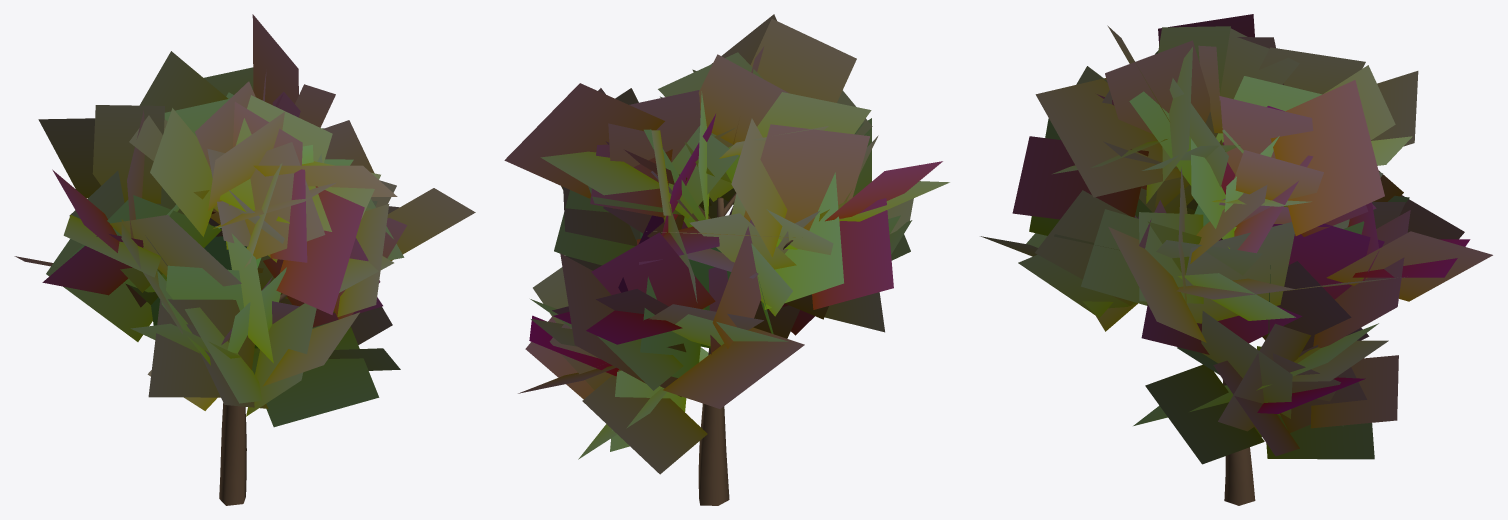
Rendered from tree_apple_far.glb.
The picture shows the model from 3 angles, left to right: view 1: azimuth 30°, elevation 25°; view 2: azimuth 150°, elevation 25°; view 3: azimuth 270°, elevation 25°; orthographic projection. The views are drawn at different scales.
Parts seen in each view (by area): view 1: Leaves, Trunk; view 2: Leaves, Trunk; view 3: Leaves, Trunk.
Part boxes in pixels (box(x1,y1,x2,y2)): Leaves: box(14, 14, 475, 427); Trunk: box(219, 293, 287, 505); Leaves: box(504, 14, 949, 474); Trunk: box(698, 193, 793, 505); Leaves: box(980, 14, 1492, 464); Trunk: box(1221, 238, 1255, 505).
Size of the model in its own units: 4.99 by 5.05 by 5.12.
